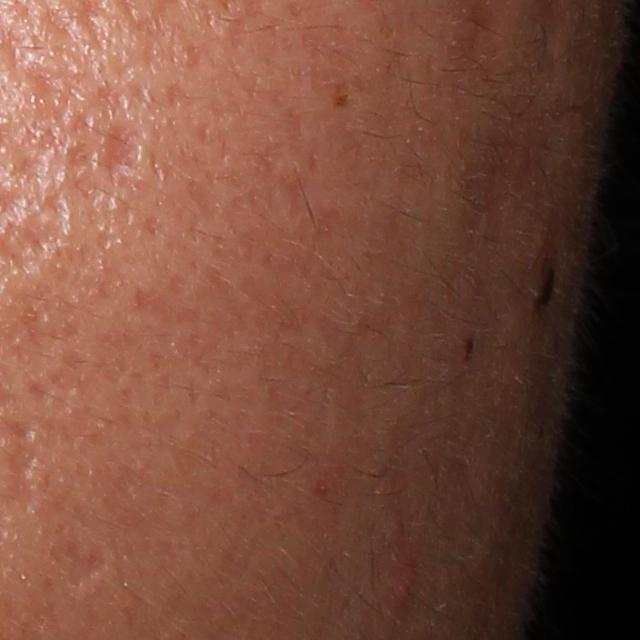atrophic_scar: (97, 118, 145, 195), (52, 534, 108, 597), (6, 426, 43, 514)
nevus: (462, 334, 480, 367)
papule: (389, 556, 421, 601)
